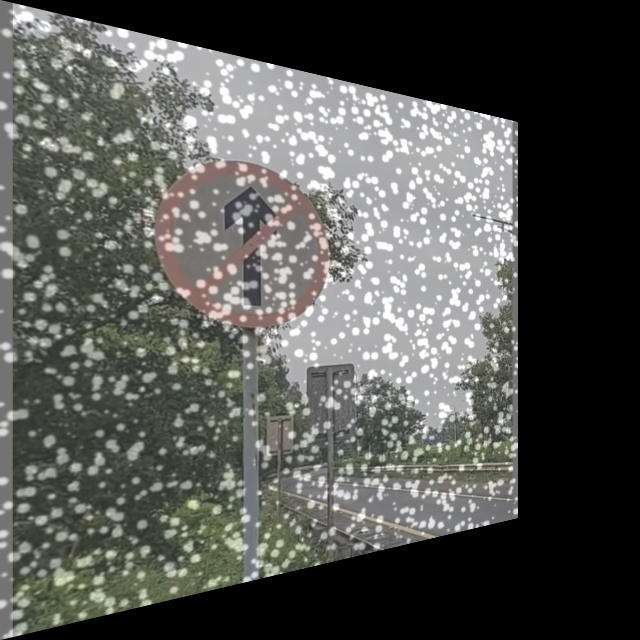No_Entry: (155, 153, 328, 327)
